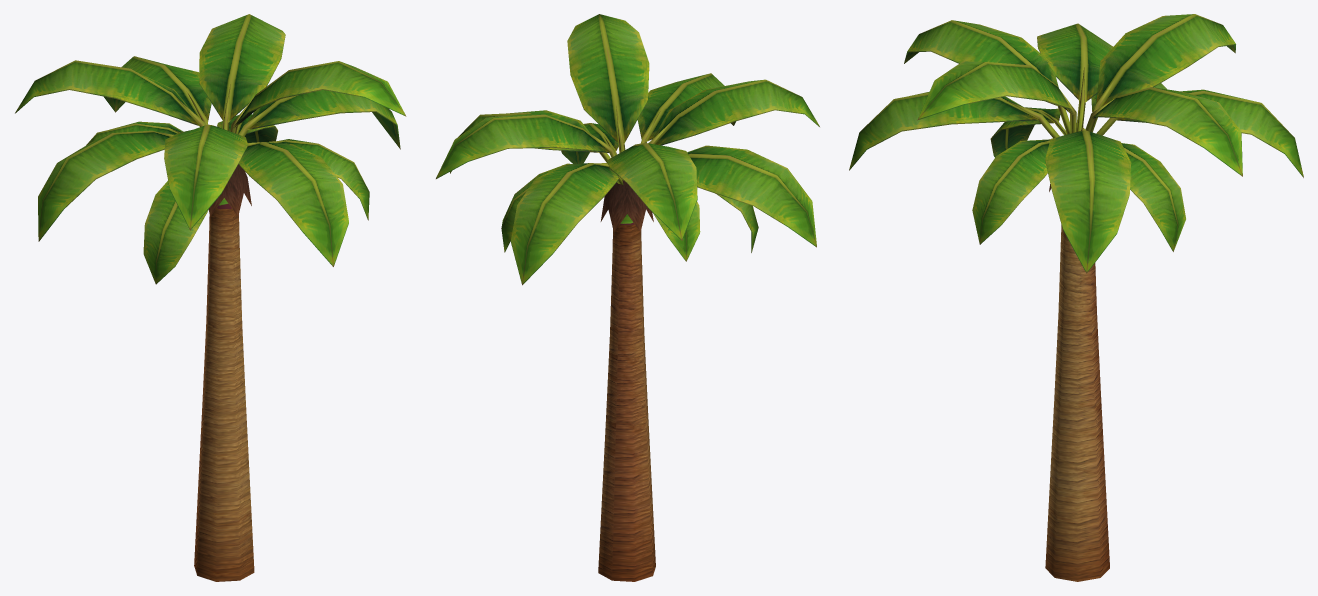
File: ETC0610014.fbx
3 views of the same model, side by side, from view 1: azimuth 30°, elevation 25°; view 2: azimuth 150°, elevation 25°; view 3: azimuth 270°, elevation 25° (orthographic). The views are drawn at different scales.
Visible parts, largest first — view 1: smETC0610014; view 2: smETC0610014; view 3: smETC0610014.
Part boxes in pixels (<box>): smETC0610014: <box>15,14,406,581</box>; smETC0610014: <box>436,14,819,581</box>; smETC0610014: <box>849,14,1303,581</box>.
Size of the model in its own units: 334 by 448 by 341.
Materials: 1 (1 with a texture image).
